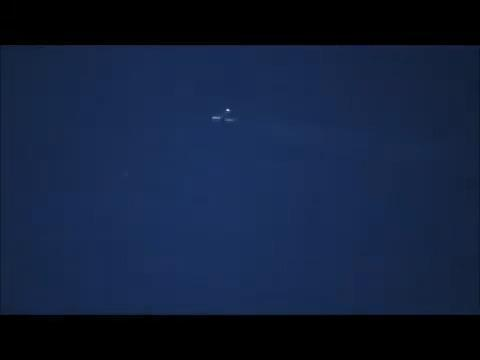Plane: (196, 100, 254, 133)
